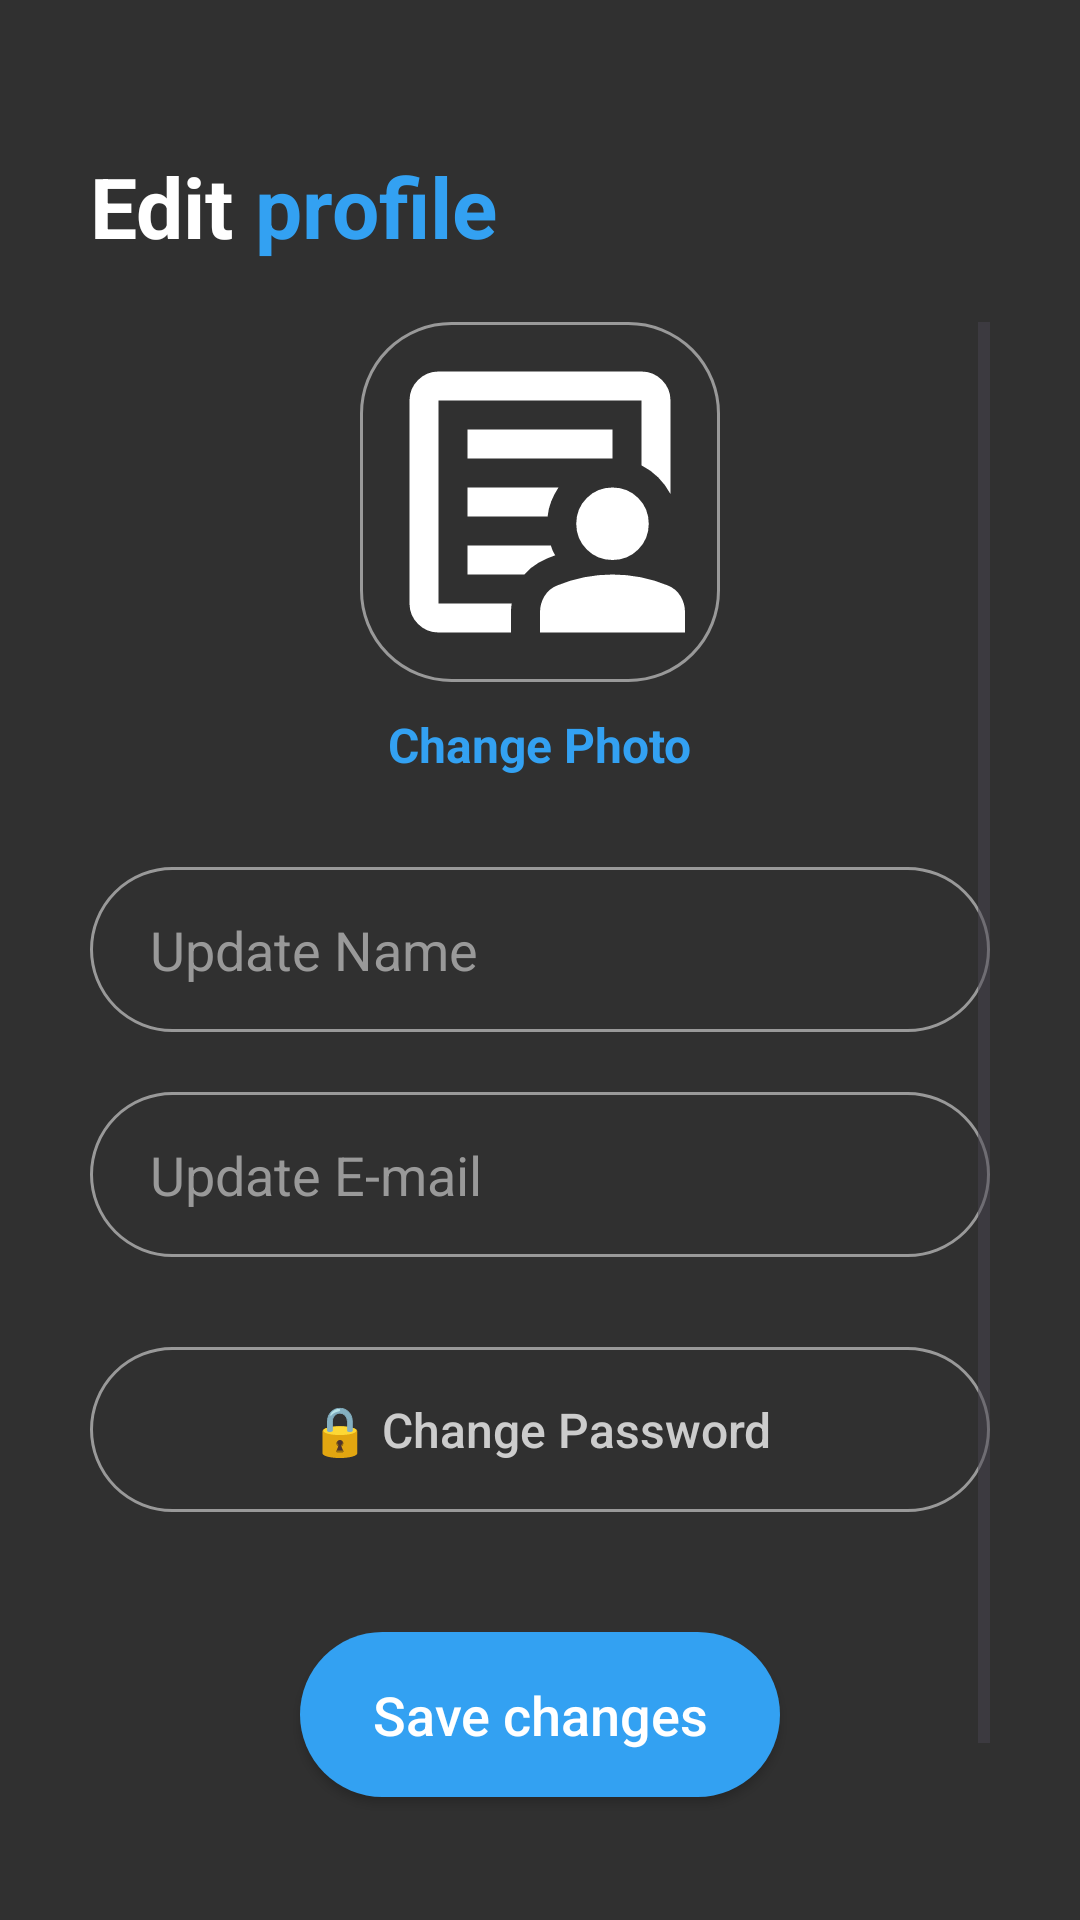

Icon bounding boxes for this 1080px×1920px phone screenshot, format (x1, y1, x2, y2):
person: (360, 322, 720, 682)
